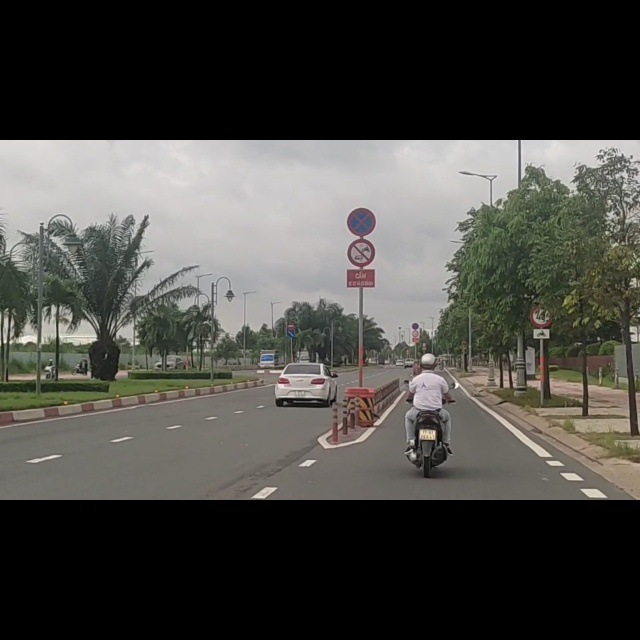bien_hieu_lenh: (346, 114, 376, 172), (347, 173, 375, 228)
